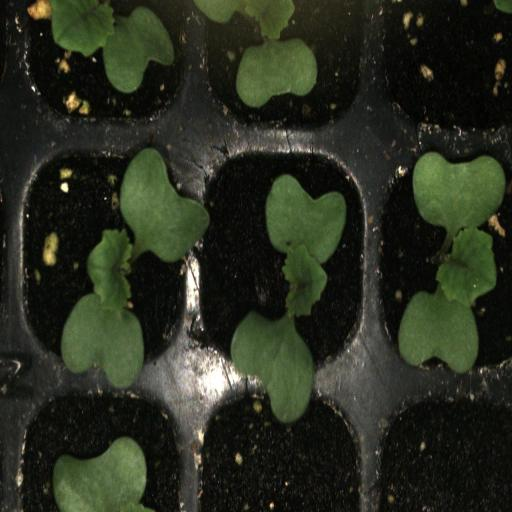Folha: (53, 436, 153, 512)
Germinacao: (14, 144, 198, 378), (197, 144, 371, 379), (373, 142, 512, 377), (15, 0, 196, 142), (198, 0, 372, 142)
